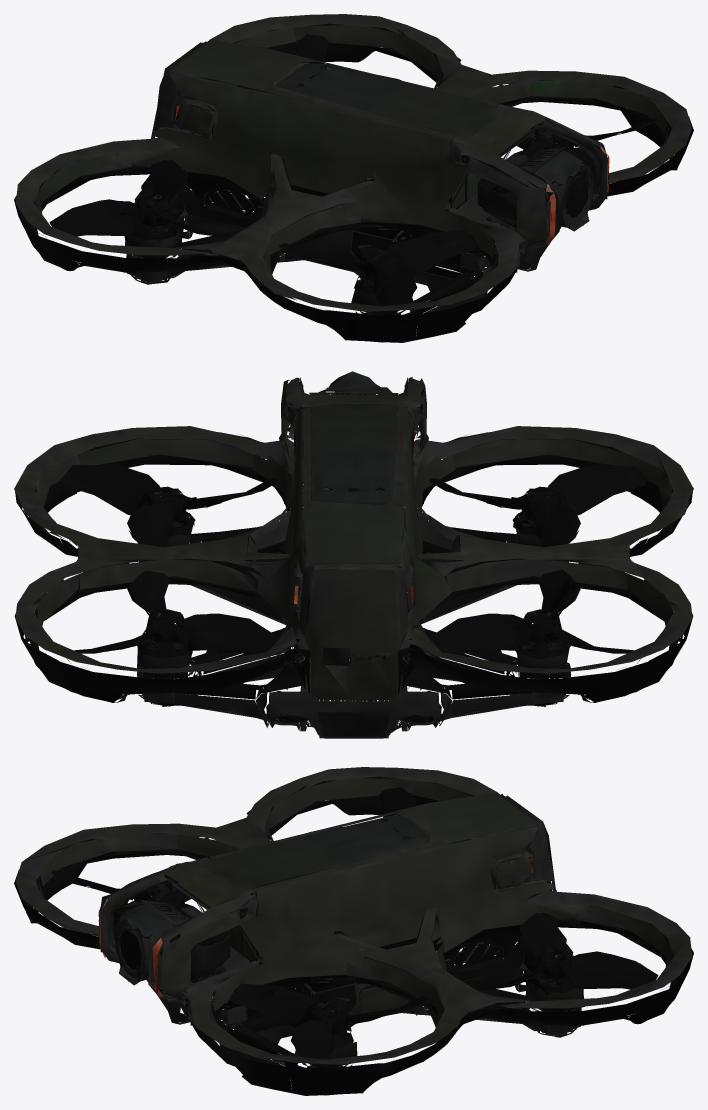
Rendered from item.drone.light.glb.
The picture shows the model from 3 angles, top to bottom: view 1: azimuth 30°, elevation 25°; view 2: azimuth 150°, elevation 25°; view 3: azimuth 270°, elevation 25°; orthographic projection. The views are drawn at different scales.
Parts seen in each view (by area): view 1: DJI_Avata2_Arms_Motors; view 2: DJI_Avata2_Arms_Motors; view 3: DJI_Avata2_Arms_Motors.
Boxes of the visible parts, bbox=[...] form: DJI_Avata2_Arms_Motors: bbox=[14, 14, 693, 342]; DJI_Avata2_Arms_Motors: bbox=[14, 371, 693, 738]; DJI_Avata2_Arms_Motors: bbox=[14, 767, 693, 1095].
Bounding box in the file's own units: 1.05 × 0.2773 × 1.01.
Materials: 1 (1 with a texture image).
